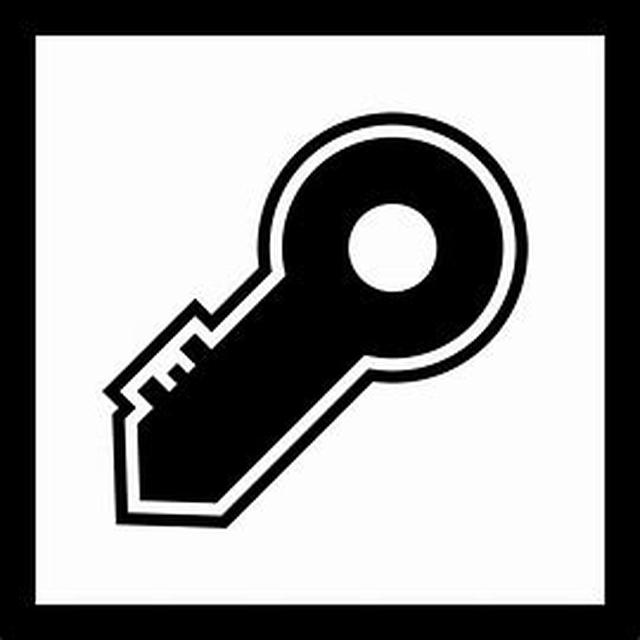key: (78, 117, 534, 548)
